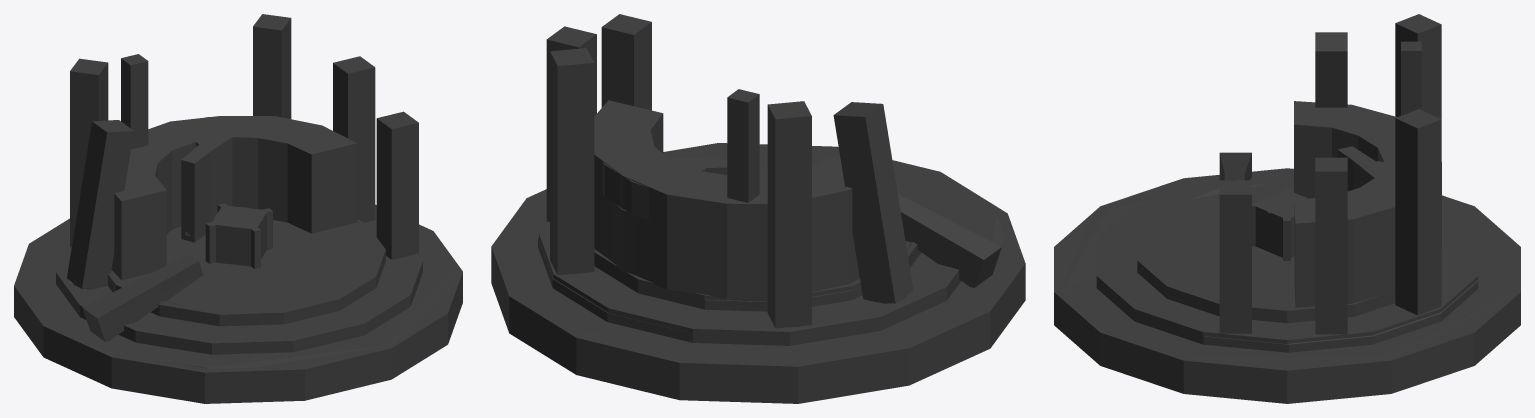
File: templeruin_01.glb
The picture shows the model from 3 angles, left to right: view 1: azimuth 30°, elevation 25°; view 2: azimuth 150°, elevation 25°; view 3: azimuth 270°, elevation 25°; orthographic projection. The views are drawn at different scales.
Parts seen in each view (by area): view 1: geometry_0; view 2: geometry_0; view 3: geometry_0.
Part boxes in pixels (x1,y1,x2,y2): geometry_0: (14, 14, 462, 403); geometry_0: (491, 14, 1025, 403); geometry_0: (1054, 14, 1520, 403).
Bounding box in the file's own units: 11.95 × 6.42 × 11.65.
1 material, 1 textured.
